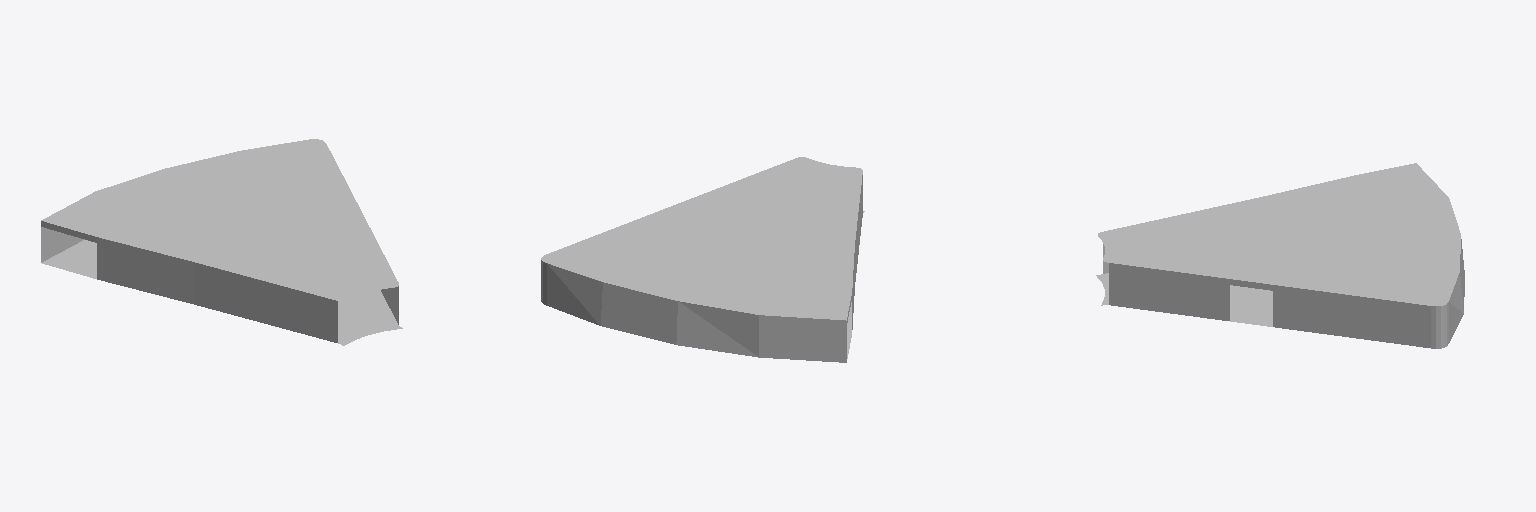
The model's file is room.obj.
3 views of the same model, side by side, from view 1: azimuth 30°, elevation 25°; view 2: azimuth 150°, elevation 25°; view 3: azimuth 270°, elevation 25° (orthographic).
Parts seen in each view (by area): view 1: SectionA; view 2: SectionA; view 3: SectionA.
Part boxes in pixels (left/top/right/bottom): SectionA: left=41, top=139, right=402, bottom=345; SectionA: left=541, top=157, right=864, bottom=362; SectionA: left=1096, top=163, right=1464, bottom=348.
Size of the model in its own units: 72.43 by 10 by 79.03.